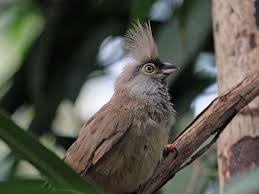target: (67, 18, 185, 193)
